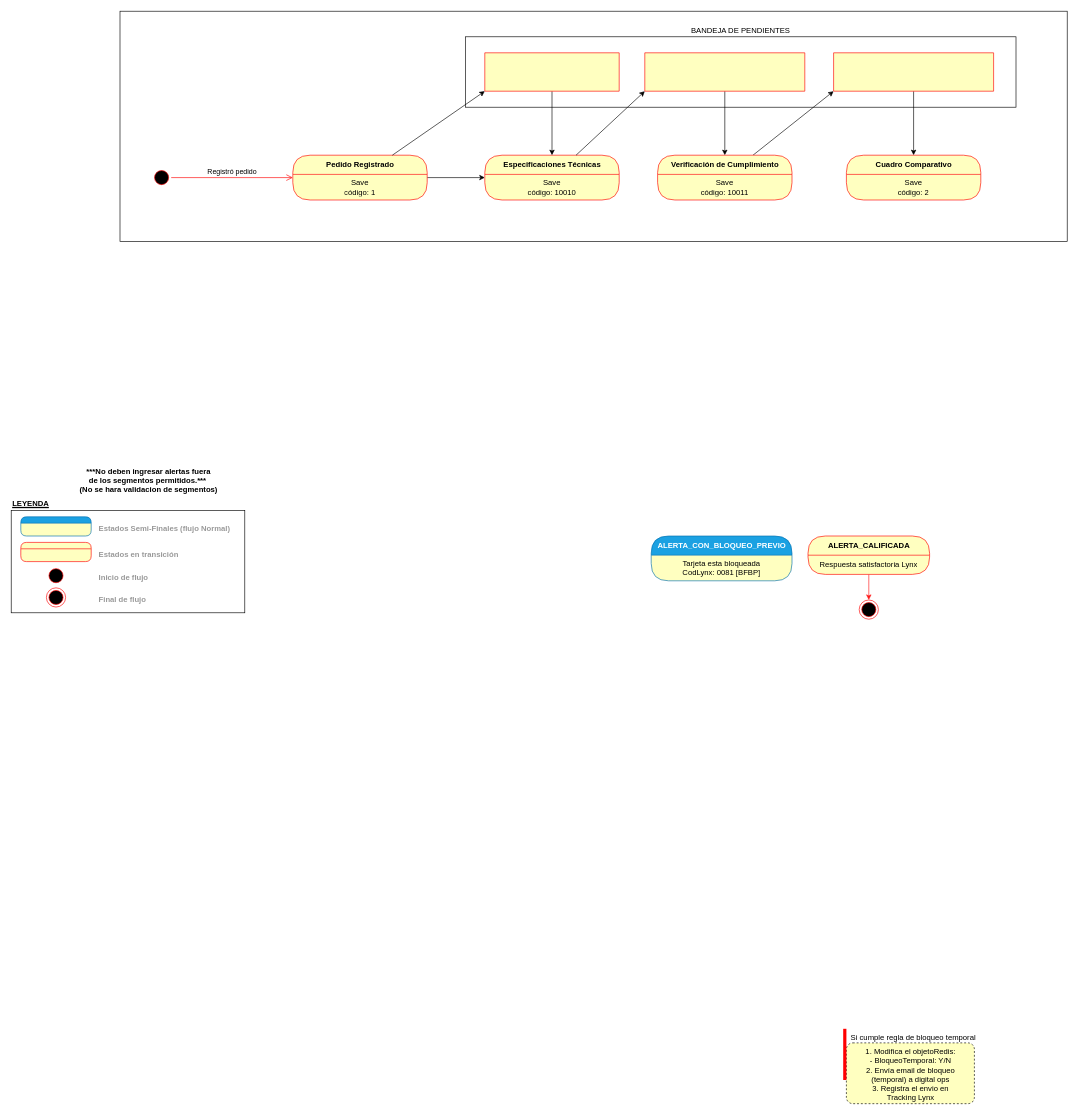
This 1078x1115 diagram has some shape labels left out. Here are the shapes that lost their labels. From the top down, the centre of each, then its label:
point (551, 71): Gestionar Pedido - Esp. Técnica
point (724, 71): Gestionar Pedido - Verif. Compra
point (913, 71): Gestionar Pedido - Elección Ganador
